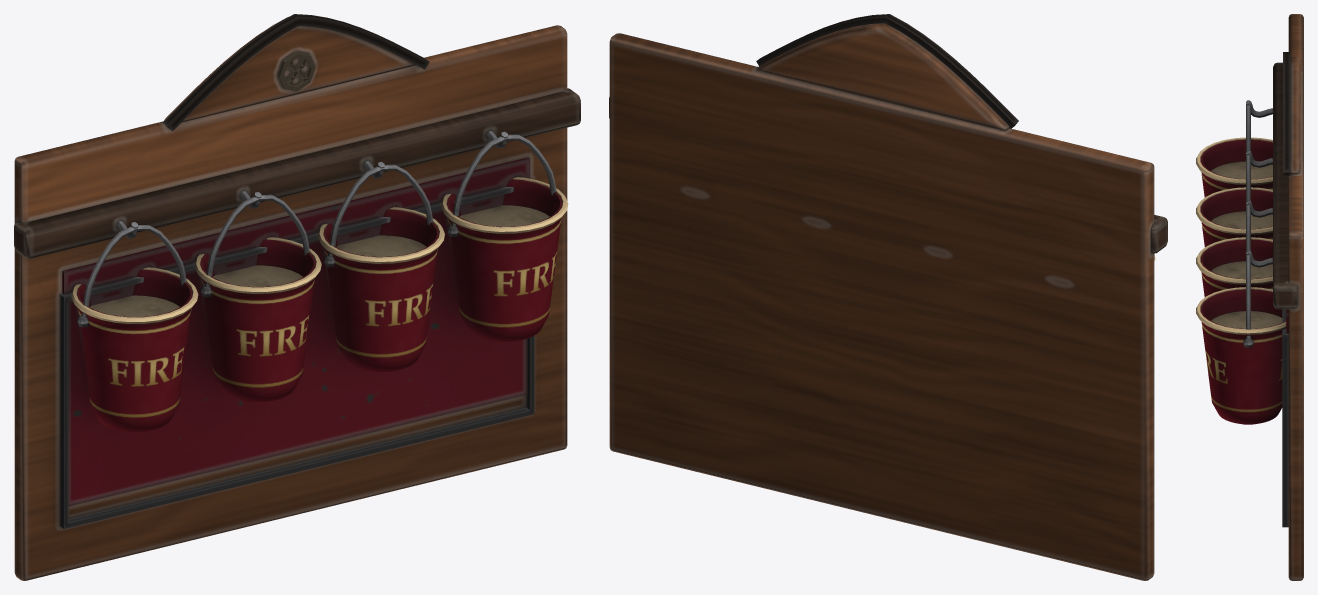
File: FireBucketRack.fbx
3 views of the same model, side by side, from view 1: azimuth 30°, elevation 25°; view 2: azimuth 150°, elevation 25°; view 3: azimuth 270°, elevation 25° (orthographic). The views are drawn at different scales.
Parts seen in each view (by area): view 1: FireBucketRack; view 2: FireBucketRack; view 3: FireBucketRack.
Boxes of the visible parts, x1,y1,x2,y2 form: FireBucketRack: [14, 14, 580, 580]; FireBucketRack: [609, 14, 1167, 580]; FireBucketRack: [1196, 14, 1303, 580].
Bounding box in the file's own units: 346 × 298 × 70.05.
